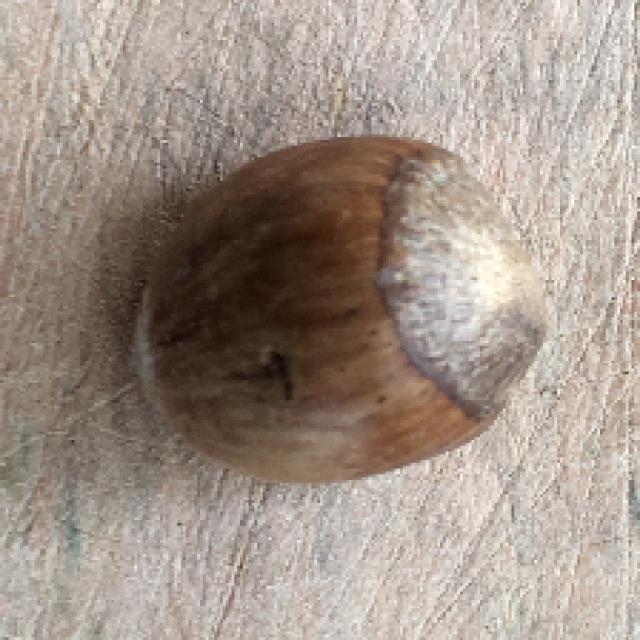damagedHazelnut: (116, 128, 558, 484)
